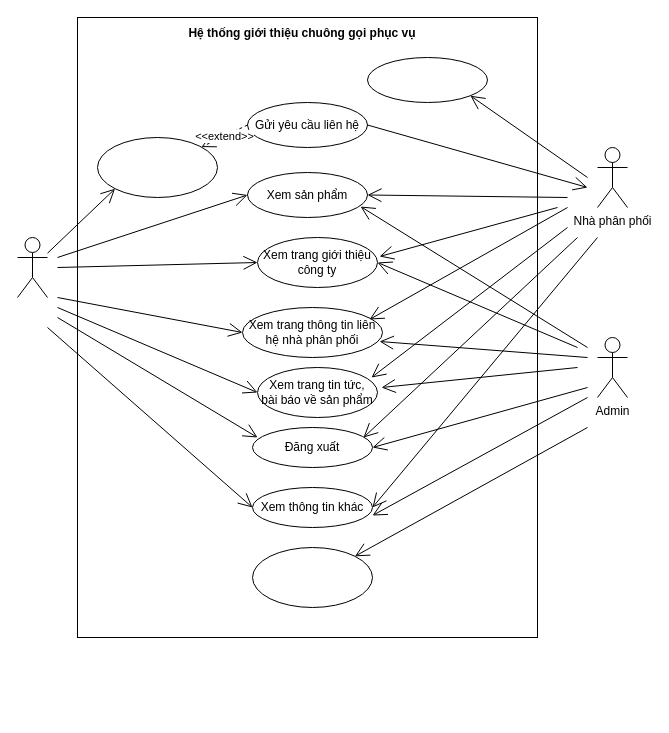
Image size: 669x733. Some labels were removed from this diagram. Each missing label, with the centre of its shape:
"Sửa các danh mục khác" goes at point (312, 577).
"Sửa sản phẩm" goes at point (427, 79).
"User" goes at point (32, 267).
"Xem mục hỗ trợ khách hàng" goes at point (157, 167).
